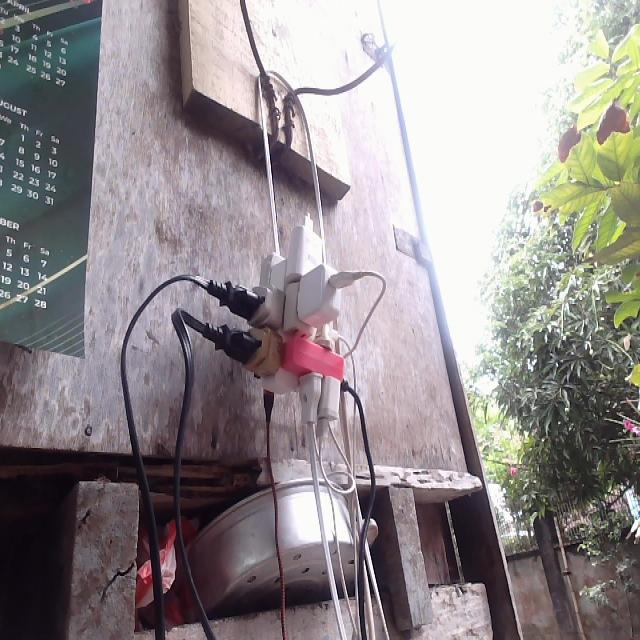-: (218, 224, 360, 425)
